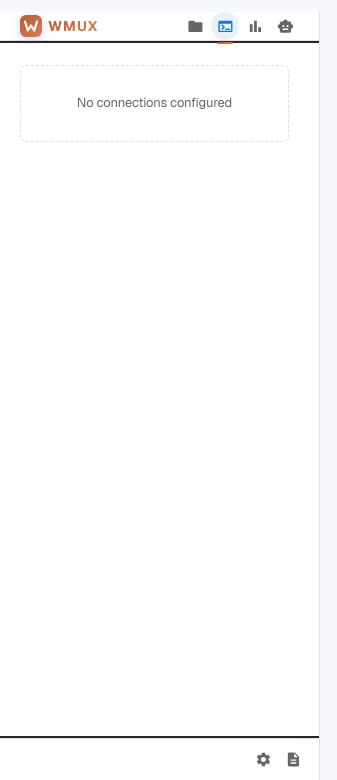
Test: Projects view › clicking Projects button loads projects and shows empty state
The image size is (337, 780).
Click the button with test id "open-projects-button" at (195, 26), box [181,12,209,40]
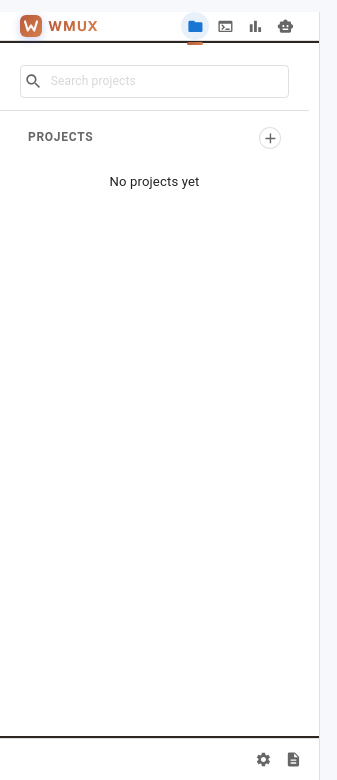
Now the text "No projects yet" is shown, box [110,174,200,189]
